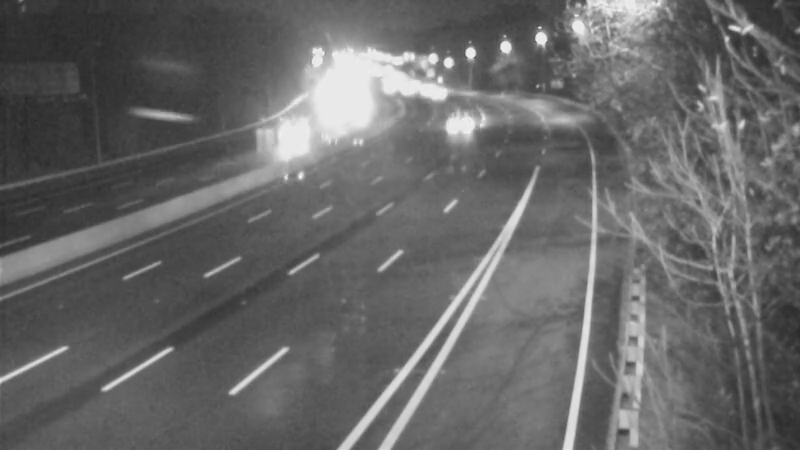vehicle: (433, 99, 483, 149), (271, 118, 321, 168)
